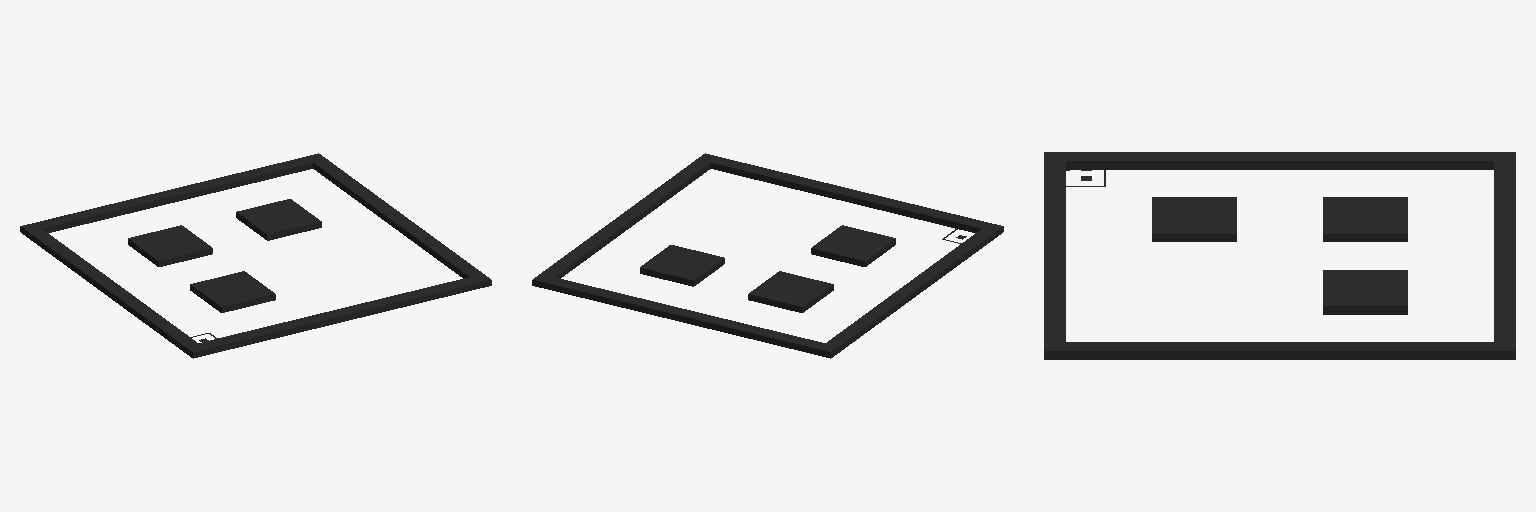
The robot description file, URDF, robot "Room51":
<robot name="Room51">
    <link name="_name">
        <visual> 
            <origin rpy="0.0 0.0 0.0" xyz="-0.47952110963595024 -0.5204773878528343 -0.010000000000000009" />
                <geometry>
                    <mesh filename="Room51/Room51.obj" scale="1 1 0.1" />
                </geometry>

            <material name="black">
                <color rgba="0.2 0.2 0.2 0.95" />
            </material>
        </visual>

       <collision concave="yes" name="collision_0">
            <origin rpy="0.0 0.0 0.0" xyz="-0.47952110963595024 -0.5204773878528343 -0.010000000000000009" />
            <geometry>
                <mesh filename="Room51/Room51_vhacd.obj" scale="1 1 0.1" />
            </geometry>
        </collision>

        <inertial> 
            <mass value="0" />
            <inertia ixx="0" ixy="0" ixz="0" iyy="0" iyz="0" izz="0" />
        </inertial> 
    </link>
</robot>

--- What the picture shows (computed from the rendered views, not written in the file) ---
Views: 3 orthographic renders of the robot side by side, from view 1: azimuth 30°, elevation 25°; view 2: azimuth 150°, elevation 25°; view 3: azimuth 270°, elevation 25°.
Model Room51 with 1 links and 0 joints (none), rooted at _name, posed all joints at 0.
Visible links, largest first — view 1: _name; view 2: _name; view 3: _name.
Boxes of the visible links, x1,y1,x2,y2 form: _name: (20, 153, 491, 358); _name: (532, 153, 1003, 358); _name: (1044, 152, 1515, 359).
Bounding box of the posed robot: 1 × 1 × 0.02 m (x, y, z).
1 mesh visuals loaded from 1 distinct referenced files (1 OBJ).